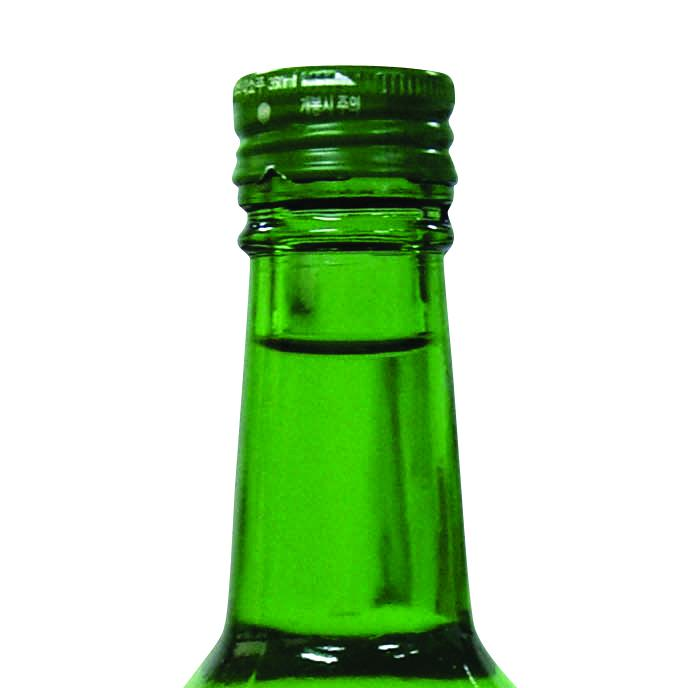soju: (178, 59, 521, 688)
